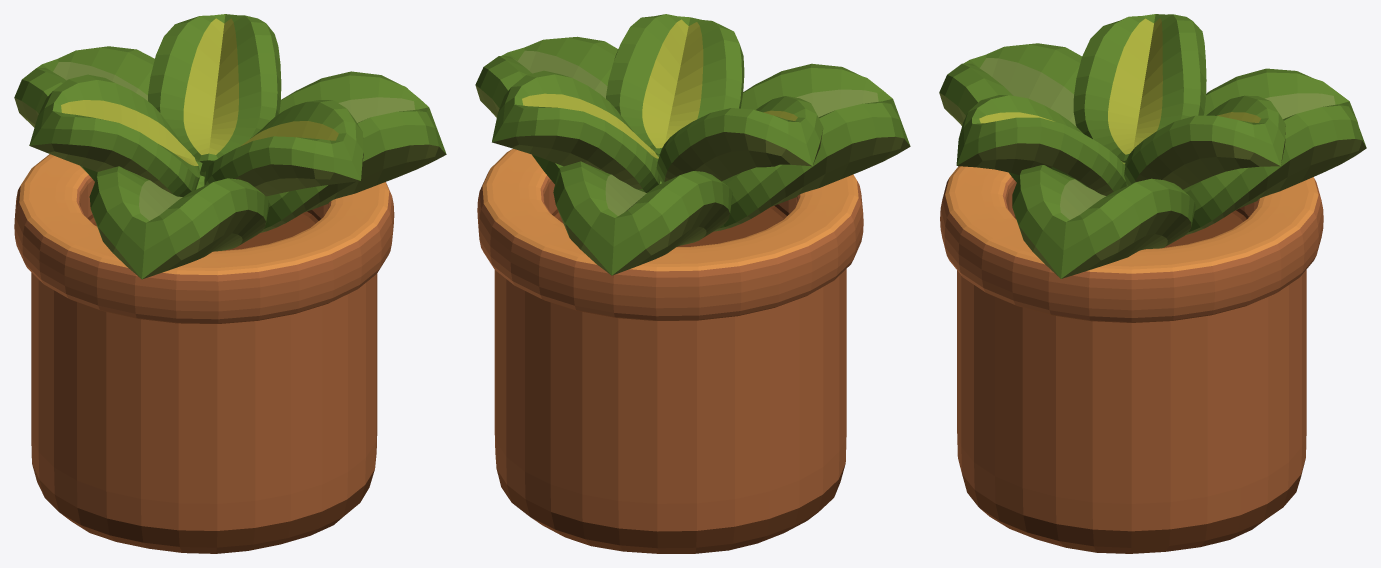
Rendered from 3D_Plant2.fbx.
3 renders of one model, left to right at view 1: azimuth 30°, elevation 25°; view 2: azimuth 150°, elevation 25°; view 3: azimuth 270°, elevation 25°, orthographic.
Parts seen in each view (by area): view 1: 3D_Plant2; view 2: 3D_Plant2; view 3: 3D_Plant2.
Boxes of the visible parts, <box> form: 3D_Plant2: <box>14,14,446,553</box>; 3D_Plant2: <box>475,14,910,553</box>; 3D_Plant2: <box>939,14,1366,553</box>.
Bounding box in the file's own units: 30.83 × 33.89 × 30.46.
